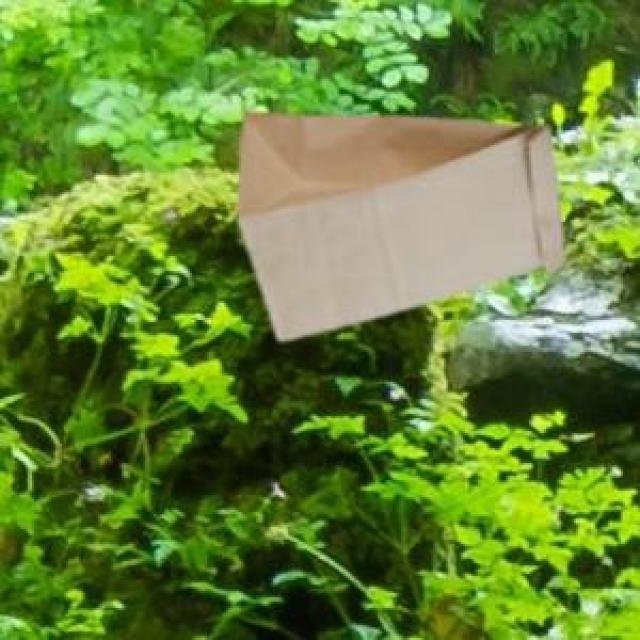paper: (233, 109, 559, 335)
